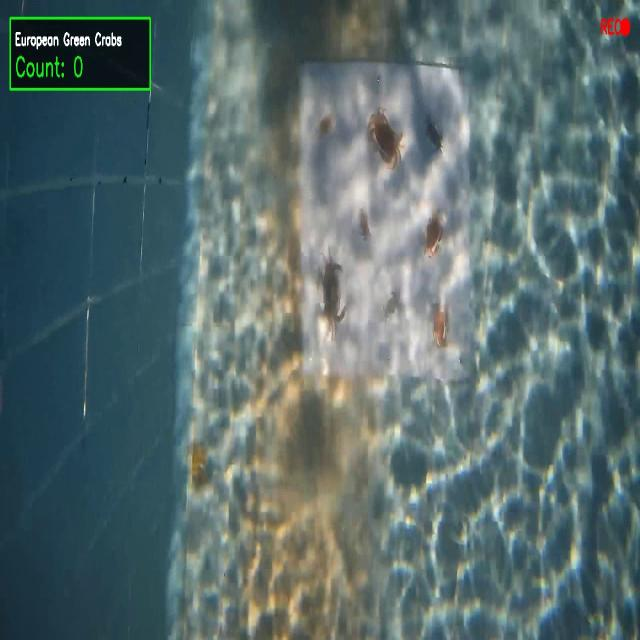European_Green_Crab: (313, 244, 348, 346), (380, 283, 405, 328), (422, 111, 446, 155)
